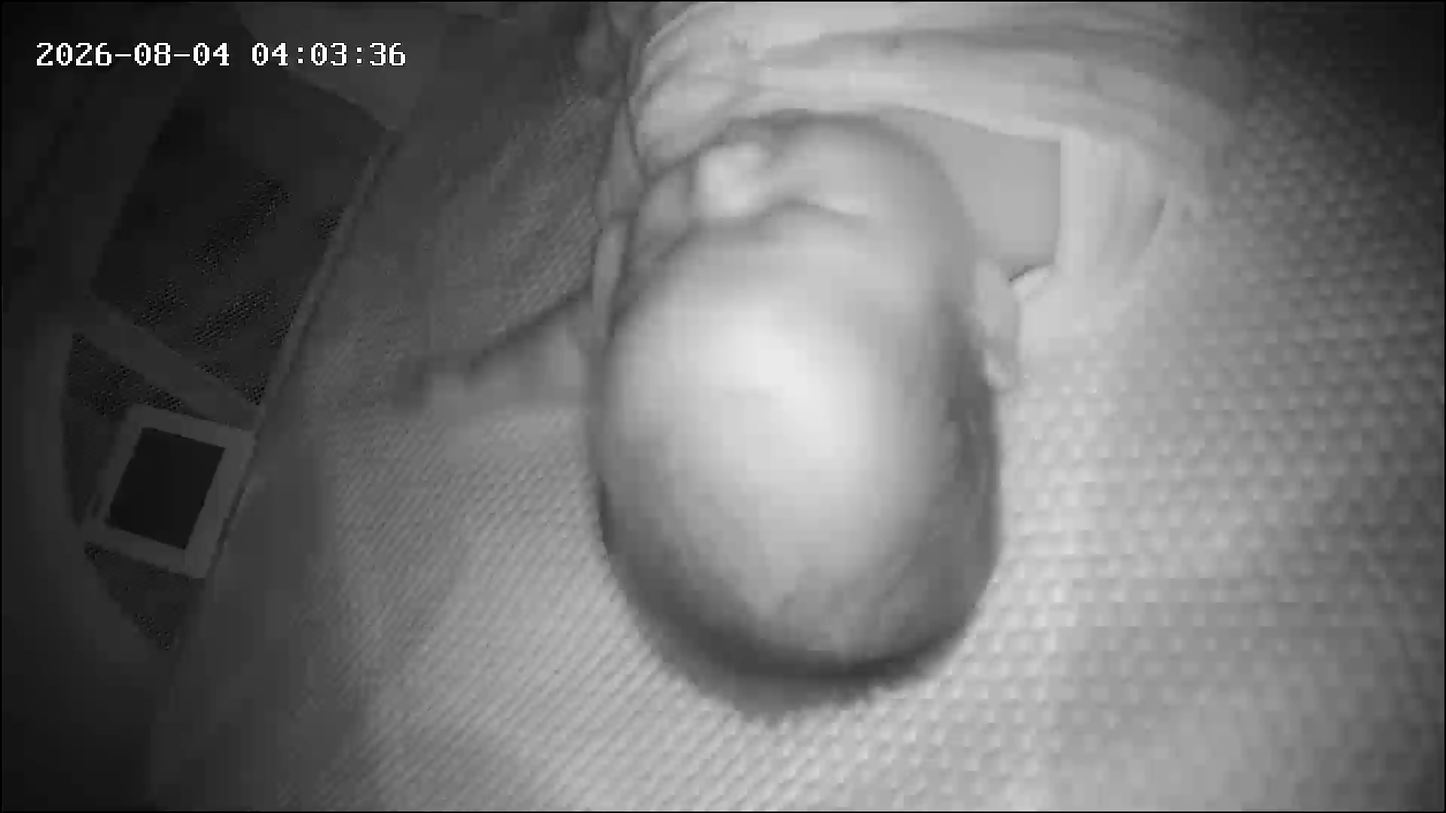baby: (299, 1, 1261, 728)
baby_face: (576, 100, 1022, 705)
